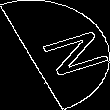N_SW: (13, 27, 97, 83)
